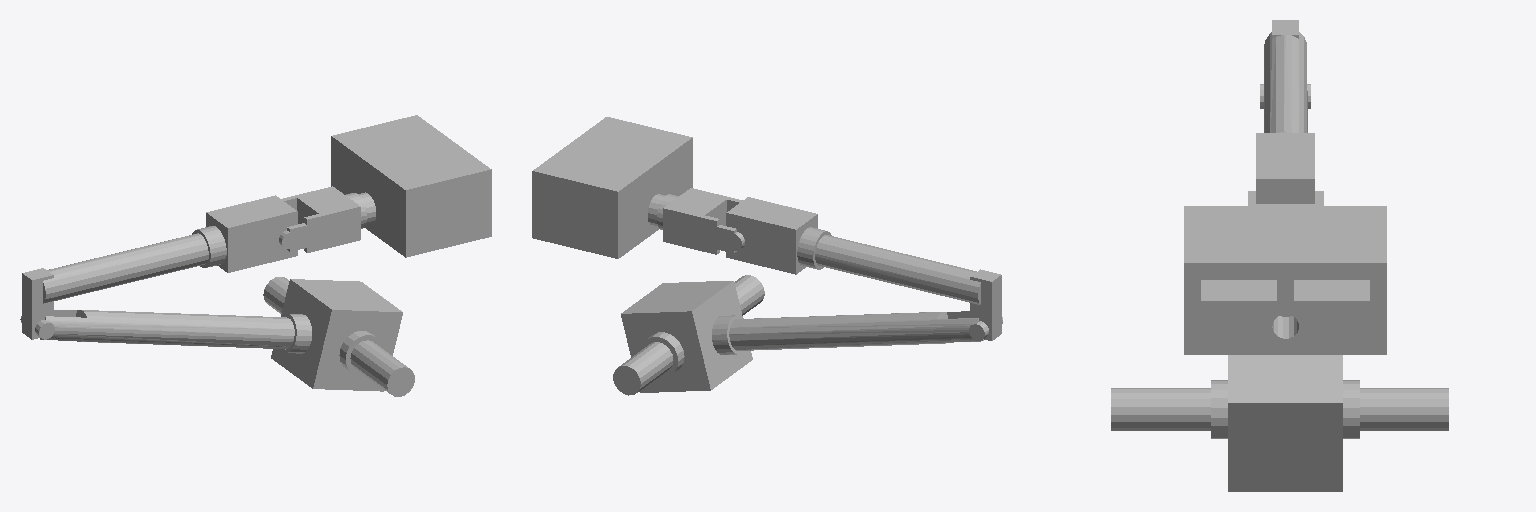
robot.urdf — simplified_arm_assembly:
<?xml version="1.0" encoding="utf-8"?>
<!-- This URDF was automatically created by SolidWorks to URDF Exporter! Originally created by [author] ([email redacted]) 
     Commit Version: 1.6.0-4-g7f85cfe  Build Version: 1.6.7995.38578
     For more information, please see http://wiki.ros.org/sw_urdf_exporter -->
<robot
  name="simplified_arm_assembly">

    <!-- fatto io-->
    <link name="base_link"/>

    <joint name="base_to_module" type="fixed">
      <parent link="base_link"/>
      <child link="module_joint"/>
      <origin xyz="0 0 0" rpy="0 0 0"/>
    </joint>
    <!-- fatto io-->

  <link
    name="module_joint">
    <inertial>
      <origin
        xyz="0 -0.0031516 0"
        rpy="0 0 0" />
      <mass
        value="0.11481" />
      <inertia
        ixx="0.00037274"
        ixy="-3.8623E-21"
        ixz="-1.0431E-22"
        iyy="1.1022E-05"
        iyz="2.037E-21"
        izz="0.00037274" />
    </inertial>
    <visual>
      <origin
        xyz="0 0 0"
        rpy="0 0 0" />
      <geometry>
        <mesh
          filename="package://simplified_arm_assembly/meshes/module_joint.STL" />
      </geometry>
      <material
        name="">
        <color
          rgba="0.75294 0.75294 0.75294 1" />
      </material>
    </visual>
    <collision>
      <origin
        xyz="0 0 0"
        rpy="0 0 0" />
      <geometry>
        <mesh
          filename="package://simplified_arm_assembly/meshes/module_joint.STL" />
      </geometry>
    </collision>
  </link>
  <link
    name="pitch_1">
    <inertial>
      <origin
        xyz="1.3878E-17 0.00059334 -1.7347E-18"
        rpy="0 0 0" />
      <mass
        value="0.28931" />
      <inertia
        ixx="0.0002425"
        ixy="3.7269E-20"
        ixz="-2.3847E-20"
        iyy="0.00023577"
        iyz="-4.6317E-21"
        izz="0.00025759" />
    </inertial>
    <visual>
      <origin
        xyz="0 0 0"
        rpy="0 0 0" />
      <geometry>
        <mesh
          filename="package://simplified_arm_assembly/meshes/pitch_1.STL" />
      </geometry>
      <material
        name="">
        <color
          rgba="0.75294 0.75294 0.75294 1" />
      </material>
    </visual>
    <collision>
      <origin
        xyz="0 0 0"
        rpy="0 0 0" />
      <geometry>
        <mesh
          filename="package://simplified_arm_assembly/meshes/pitch_1.STL" />
      </geometry>
    </collision>
  </link>
  <joint
    name="pitch_joint_1"
    type="revolute">
    <origin
      xyz="0 0 0"
      rpy="1.5708 1.309 3.1416" />
    <parent
      link="module_joint" />
    <child
      link="pitch_1" />
    <axis
      xyz="0 0 -1" />
    <limit
      lower="-1.309"
      upper="1.309"
      effort="6"
      velocity="2" />
  </joint>
  <link
    name="roll_2">
    <inertial>
      <origin
        xyz="1.1115E-08 7.62E-08 0.014827"
        rpy="0 0 0" />
      <mass
        value="0.11865" />
      <inertia
        ixx="0.00051345"
        ixy="-2.7475E-10"
        ixz="-9.7641E-11"
        iyy="0.00051383"
        iyz="2.2625E-10"
        izz="1.0228E-05" />
    </inertial>
    <visual>
      <origin
        xyz="0 0 0"
        rpy="0 0 0" />
      <geometry>
        <mesh
          filename="package://simplified_arm_assembly/meshes/roll_2.STL" />
      </geometry>
      <material
        name="">
        <color
          rgba="0.75294 0.75294 0.75294 1" />
      </material>
    </visual>
    <collision>
      <origin
        xyz="0 0 0"
        rpy="0 0 0" />
      <geometry>
        <mesh
          filename="package://simplified_arm_assembly/meshes/roll_2.STL" />
      </geometry>
    </collision>
  </link>
  <joint
    name="roll_joint_2"
    type="revolute">
    <origin
      xyz="0 0.16147 0"
      rpy="1.5708 1.5708 0" />
    <parent
      link="pitch_1" />
    <child
      link="roll_2" />
    <axis
      xyz="0 0 1" />
    <limit
      lower="0"
      upper="6.28"
      effort="6"
      velocity="2" />
  </joint>
  <link
    name="pitch_3">
    <inertial>
      <origin
        xyz="0.060867 0.046121 -5.2042E-18"
        rpy="0 0 0" />
      <mass
        value="0.10409" />
      <inertia
        ixx="4.6765E-05"
        ixy="-9.086E-05"
        ixz="1.3572E-20"
        iyy="0.00027451"
        iyz="3.2775E-21"
        izz="0.00031255" />
    </inertial>
    <visual>
      <origin
        xyz="0 0 0"
        rpy="0 0 0" />
      <geometry>
        <mesh
          filename="package://simplified_arm_assembly/meshes/pitch_3.STL" />
      </geometry>
      <material
        name="">
        <color
          rgba="0.75294 0.75294 0.75294 1" />
      </material>
    </visual>
    <collision>
      <origin
        xyz="0 0 0"
        rpy="0 0 0" />
      <geometry>
        <mesh
          filename="package://simplified_arm_assembly/meshes/pitch_3.STL" />
      </geometry>
    </collision>
  </link>
  <joint
    name="pitch_joint_3"
    type="revolute">
    <origin
      xyz="0 0 -0.1271"
      rpy="3.1416 -1.5708 0" />
    <parent
      link="roll_2" />
    <child
      link="pitch_3" />
    <axis
      xyz="0 0 1" />
    <limit
      lower="0"
      upper="2.88"
      effort="6"
      velocity="2" />
  </joint>
  <link
    name="roll_4">
    <inertial>
      <origin
        xyz="1.9082E-17 -0.0018789 0.03054"
        rpy="0 0 0" />
      <mass
        value="0.096867" />
      <inertia
        ixx="5.2065E-05"
        ixy="-2.0065E-21"
        ixz="-6.0327E-21"
        iyy="4.9885E-05"
        iyz="2.3291E-07"
        izz="2.3052E-05" />
    </inertial>
    <visual>
      <origin
        xyz="0 0 0"
        rpy="0 0 0" />
      <geometry>
        <mesh
          filename="package://simplified_arm_assembly/meshes/roll_4.STL" />
      </geometry>
      <material
        name="">
        <color
          rgba="0.75294 0.75294 0.75294 1" />
      </material>
    </visual>
    <collision>
      <origin
        xyz="0 0 0"
        rpy="0 0 0" />
      <geometry>
        <mesh
          filename="package://simplified_arm_assembly/meshes/roll_4.STL" />
      </geometry>
    </collision>
  </link>
  <joint
    name="roll_joint_4"
    type="revolute">
    <origin
      xyz="0.15351 0.074002 0"
      rpy="3.4034 -1.5708 0" />
    <parent
      link="pitch_3" />
    <child
      link="roll_4" />
    <axis
      xyz="0 0 1" />
    <limit
      lower="0"
      upper="6.28"
      effort="3"
      velocity="1" />
  </joint>
  <link
    name="pitch_5">
    <inertial>
      <origin
        xyz="0.045311 -1.3878E-17 -3.1225E-17"
        rpy="0 0 0" />
      <mass
        value="0.056876" />
      <inertia
        ixx="1.5222E-05"
        ixy="3.2086E-21"
        ixz="2.628E-21"
        iyy="2.2881E-05"
        iyz="-6.6366E-22"
        izz="1.6114E-05" />
    </inertial>
    <visual>
      <origin
        xyz="0 0 0"
        rpy="0 0 0" />
      <geometry>
        <mesh
          filename="package://simplified_arm_assembly/meshes/pitch_5.STL" />
      </geometry>
      <material
        name="">
        <color
          rgba="0.75294 0.75294 0.75294 1" />
      </material>
    </visual>
    <collision>
      <origin
        xyz="0 0 0"
        rpy="0 0 0" />
      <geometry>
        <mesh
          filename="package://simplified_arm_assembly/meshes/pitch_5.STL" />
      </geometry>
    </collision>
  </link>
  <joint
    name="pitch_joint_5"
    type="revolute">
    <origin
      xyz="0 0 0.05447"
      rpy="3.1416 -1.5708 0" />
    <parent
      link="roll_4" />
    <child
      link="pitch_5" />
    <axis
      xyz="0 0 -1" />
    <limit
      lower="-1.57"
      upper="1.57"
      effort="3"
      velocity="1" />
  </joint>
  <link
    name="roll_6">
    <inertial>
      <origin
        xyz="7.9797E-17 0.0089729 0.056902"
        rpy="0 0 0" />
      <mass
        value="0.54009" />
      <inertia
        ixx="0.00046175"
        ixy="1.37E-19"
        ixz="1.5743E-19"
        iyy="0.0009503"
        iyz="7.6437E-06"
        izz="0.00081963" />
    </inertial>
    <visual>
      <origin
        xyz="0 0 0"
        rpy="0 0 0" />
      <geometry>
        <mesh
          filename="package://simplified_arm_assembly/meshes/roll_6.STL" />
      </geometry>
      <material
        name="">
        <color
          rgba="0.75294 0.75294 0.75294 1" />
      </material>
    </visual>
    <collision>
      <origin
        xyz="0 0 0"
        rpy="0 0 0" />
      <geometry>
        <mesh
          filename="package://simplified_arm_assembly/meshes/roll_6.STL" />
      </geometry>
    </collision>
  </link>
  <joint
    name="roll_joint_6"
    type="revolute">
    <origin
      xyz="0.065961 0 0"
      rpy="0 1.5708 0" />
    <parent
      link="pitch_5" />
    <child
      link="roll_6" />
    <axis
      xyz="0 0 -1" />
    <limit
      lower="0"
      upper="6.28"
      effort="3"
      velocity="1" />
  </joint>
</robot>

--- Render facts (derived) ---
Views: 3 orthographic renders of the robot side by side, from view 1: azimuth 30°, elevation 25°; view 2: azimuth 150°, elevation 25°; view 3: azimuth 270°, elevation 25°.
Robot: simplified_arm_assembly — 8 links, 7 joints (6 revolute, 1 fixed); root link base_link; default pose: all joints at 0.
Links seen in each view (by area): view 1: roll_6, pitch_1, roll_2, pitch_3, roll_4, pitch_5, module_joint; view 2: roll_6, pitch_1, roll_2, pitch_3, roll_4, pitch_5, module_joint; view 3: roll_6, pitch_1, module_joint, pitch_3, roll_4.
Link boxes in pixels (<box>): roll_6: <box>331,115,491,257</box>; pitch_1: <box>271,279,402,391</box>; roll_2: <box>40,310,294,348</box>; pitch_3: <box>20,233,208,339</box>; roll_4: <box>192,195,297,272</box>; pitch_5: <box>281,186,366,252</box>; module_joint: <box>263,277,414,396</box>; roll_6: <box>532,117,692,258</box>; pitch_1: <box>621,281,752,392</box>; roll_2: <box>729,311,983,350</box>; pitch_3: <box>815,235,1002,340</box>; roll_4: <box>726,197,831,274</box>; pitch_5: <box>657,188,742,254</box>; module_joint: <box>613,275,764,395</box>; roll_6: <box>1184,206,1386,354</box>; pitch_1: <box>1228,355,1342,491</box>; module_joint: <box>1111,380,1448,438</box>; pitch_3: <box>1260,20,1310,132</box>; roll_4: <box>1256,131,1314,203</box>.
Size in the robot's own frame: 0.3979 by 0.2 by 0.1885 metres.
7 mesh visuals loaded from 7 distinct referenced files (7 binary STL).
